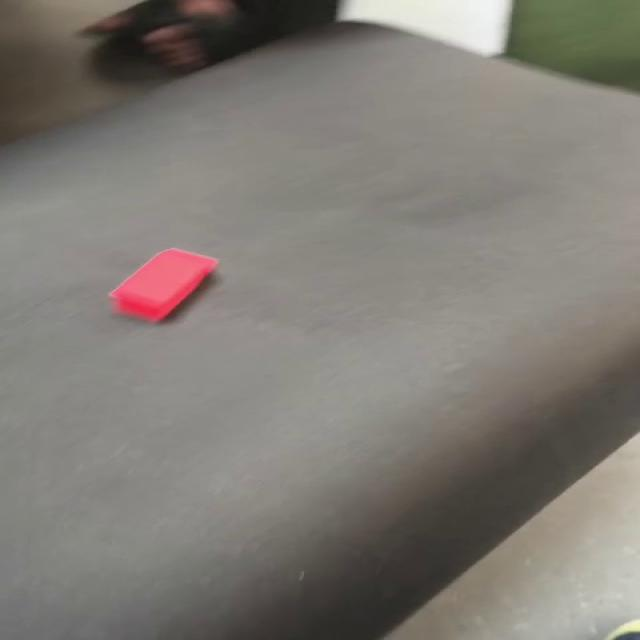red block: (106, 247, 218, 323)
